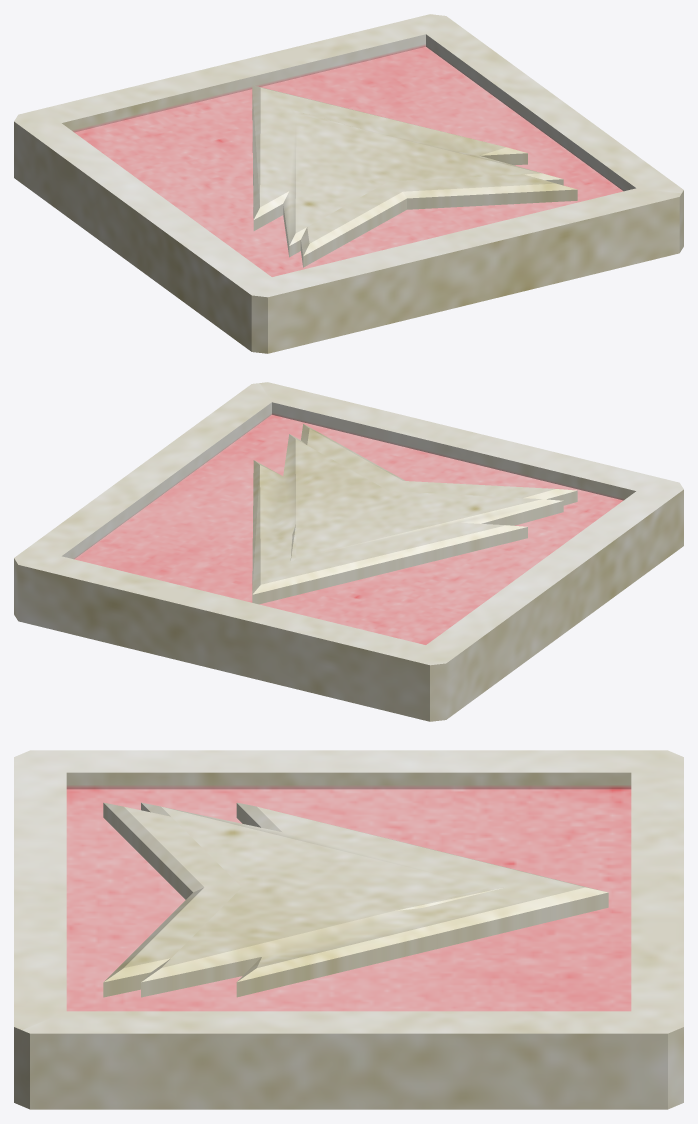
File: Front_Jump.fbx
3 views of the same model, one above another, from view 1: azimuth 30°, elevation 25°; view 2: azimuth 150°, elevation 25°; view 3: azimuth 270°, elevation 25° (orthographic). The views are drawn at different scales.
Visible parts, largest first — view 1: Box001; view 2: Box001; view 3: Box001.
Part boxes in pixels (x1,y1,x2,y2): Box001: (14,14,683,353); Box001: (14,382,683,721); Box001: (14,750,683,1109).
Bounding box in the file's own units: 31.5 × 4.18 × 31.5.
1 material, 1 textured.
